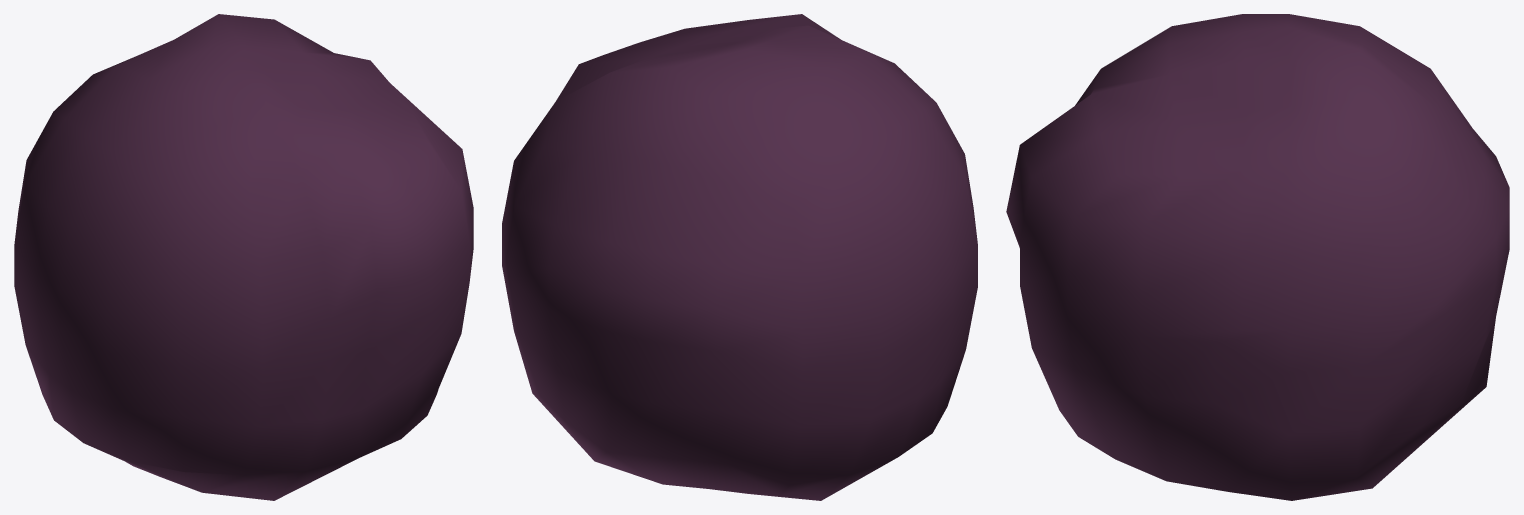
The model's file is rock3.fbx.
The picture shows the model from 3 angles, left to right: view 1: azimuth 30°, elevation 25°; view 2: azimuth 150°, elevation 25°; view 3: azimuth 270°, elevation 25°; orthographic projection. The views are drawn at different scales.
Parts seen in each view (by area): view 1: Roundcube.013; view 2: Roundcube.013; view 3: Roundcube.013.
Part boxes in pixels (<box>): Roundcube.013: <box>14,14,473,500</box>; Roundcube.013: <box>502,14,977,500</box>; Roundcube.013: <box>1006,14,1509,500</box>.
Bounding box in the file's own units: 94.15 × 99.3 × 102.
